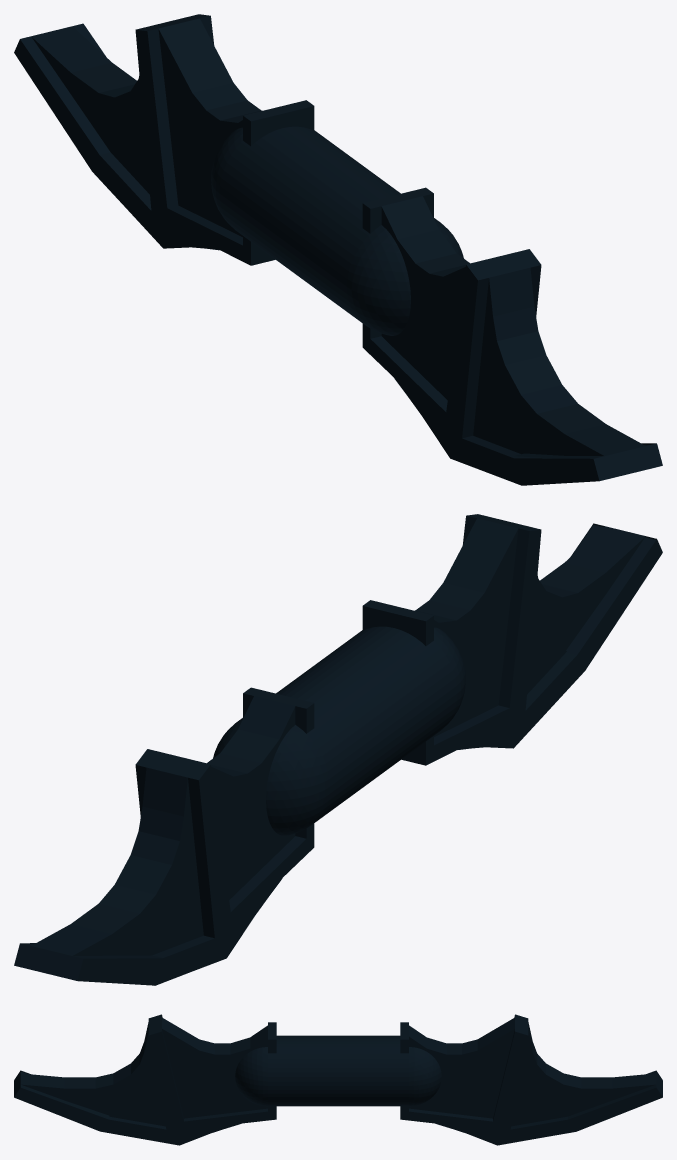
3 views of the same model, one above another, from view 1: azimuth 30°, elevation 25°; view 2: azimuth 150°, elevation 25°; view 3: azimuth 270°, elevation 25° (orthographic). The views are drawn at different scales.
Visible parts, largest first — view 1: _55707c, _1_4cyli_3, _1_8sphe_3, _1_4cyli_2, rect2p_7, rect3_7, rect3_16, _1_4cyli, rect2p, _1_8sphe_2, rect2p_14, rect2p_22 (+16 smaller); view 2: _55707c, _1_4cyli_3, _1_8sphe_6, _1_4cyli_2, rect2p_23, rect3_18, rect3_5, _1_4cyli, rect2p_16, _1_8sphe_7, rect2p_30, rect2p_6 (+16 smaller); view 3: _55707c, _1_4cyli, _1_4cyli_1, _1_8sphe, _1_8sphe_5, _1_8sphe_1, _1_8sphe_4, rect2p, rect2p_16, _1_4cyli_3, rect2p_7, rect2p_23 (+12 smaller).
Boxes of the visible parts, box(x1,y1,x2,y2) form: _55707c: box(14, 29, 655, 485); _1_4cyli_3: box(219, 128, 378, 286); _1_8sphe_3: box(347, 225, 410, 300); _1_4cyli_2: box(219, 194, 361, 322); rect2p_7: box(158, 18, 233, 92); rect3_7: box(147, 15, 214, 207); rect3_16: box(462, 265, 541, 438); _1_4cyli: box(283, 126, 439, 221); rect2p: box(31, 26, 111, 72); _1_8sphe_2: box(347, 287, 410, 335); rect2p_14: box(20, 23, 110, 154); rect2p_22: box(489, 268, 534, 316); _55707c: box(73, 523, 662, 985); _1_4cyli_3: box(298, 628, 457, 786); _1_8sphe_6: box(266, 725, 329, 800); _1_4cyli_2: box(315, 694, 457, 822); rect2p_23: box(443, 518, 518, 592); rect3_18: box(462, 515, 529, 707); rect3_5: box(135, 765, 214, 938); _1_4cyli: box(239, 626, 393, 720); rect2p_16: box(565, 526, 645, 572); _1_8sphe_7: box(266, 787, 329, 835); rect2p_30: box(566, 525, 655, 653); rect2p_6: box(142, 767, 187, 816); _55707c: box(14, 1029, 662, 1145); _1_4cyli: box(268, 1039, 408, 1085); _1_4cyli_1: box(268, 1086, 408, 1106); _1_8sphe: box(235, 1047, 267, 1085); _1_8sphe_5: box(409, 1047, 441, 1085); _1_8sphe_1: box(235, 1077, 267, 1106); _1_8sphe_4: box(409, 1077, 441, 1106); rect2p: box(612, 1073, 656, 1088); rect2p_16: box(20, 1073, 64, 1088); _1_4cyli_3: box(276, 1035, 400, 1038); rect2p_7: box(477, 1017, 514, 1049); rect2p_23: box(162, 1017, 199, 1049).
Size of the model in its own units: 8 by 14.25 by 73.5.
